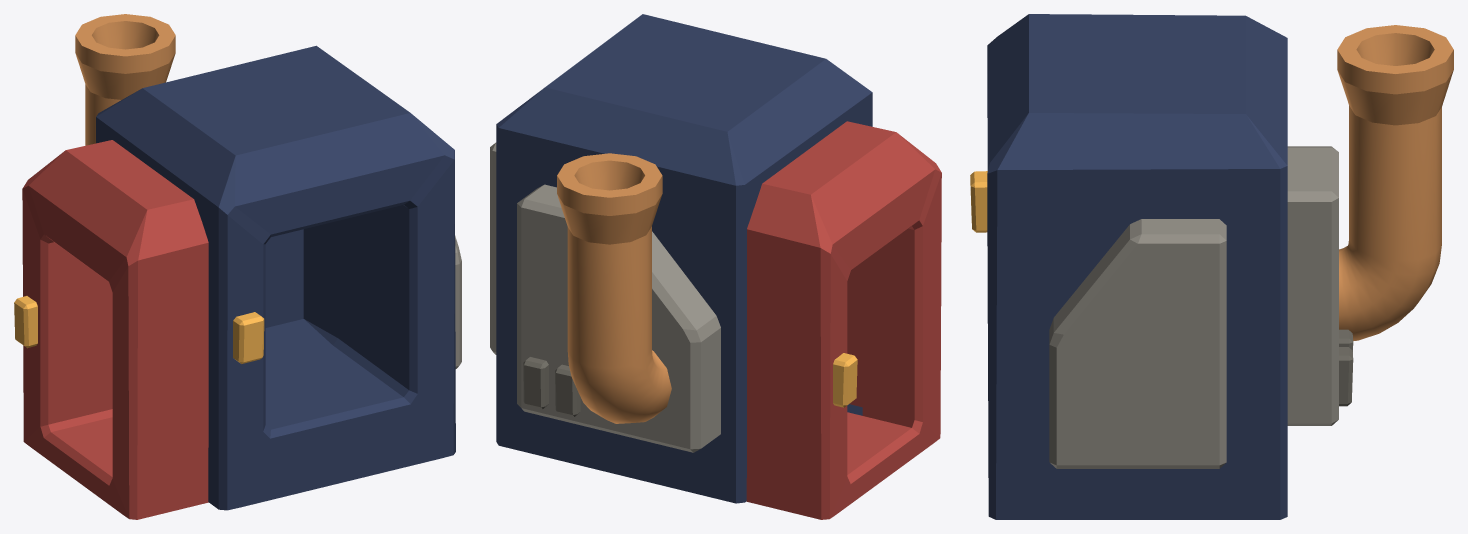
File: Machines.FBX
The picture shows the model from 3 angles, left to right: view 1: azimuth 30°, elevation 25°; view 2: azimuth 150°, elevation 25°; view 3: azimuth 270°, elevation 25°; orthographic projection. The views are drawn at different scales.
Parts seen in each view (by area): view 1: Box003; view 2: Box003; view 3: Box003.
Boxes of the visible parts, box(x1,y1,x2,y2) form: Box003: box(14, 14, 461, 519); Box003: box(490, 14, 941, 519); Box003: box(970, 14, 1453, 519).
Bounding box in the file's own units: 273 × 244 × 274.
